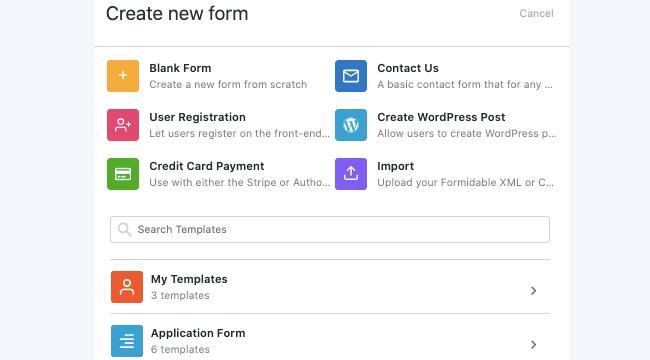icon: (106, 107, 144, 145), (108, 271, 147, 308), (104, 157, 144, 192), (336, 155, 371, 194), (107, 323, 143, 360), (333, 59, 371, 94), (107, 59, 143, 95), (335, 105, 370, 142), (529, 283, 546, 300), (527, 337, 542, 354)
input: (112, 217, 551, 243)
label: (372, 109, 509, 127), (149, 159, 270, 176), (151, 328, 251, 344), (150, 111, 250, 125), (152, 273, 234, 289), (148, 63, 221, 78), (377, 63, 438, 77), (373, 160, 418, 175)
